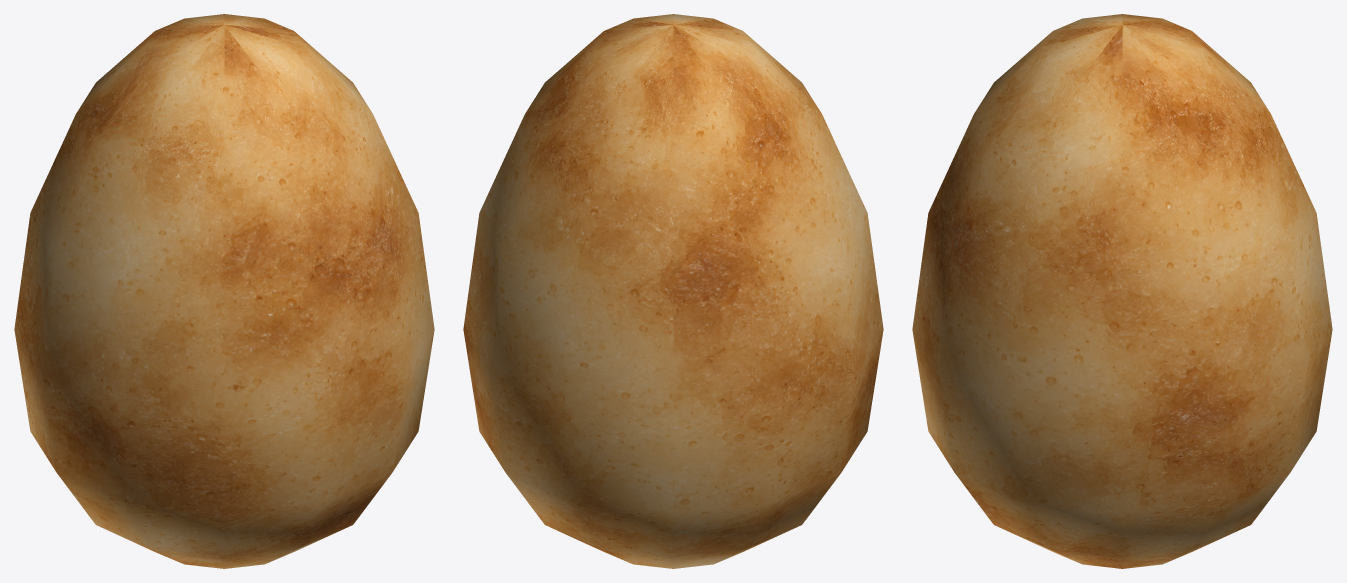
Rendered from Egg.fbx.
3 renders of one model, left to right at view 1: azimuth 30°, elevation 25°; view 2: azimuth 150°, elevation 25°; view 3: azimuth 270°, elevation 25°, orthographic.
Visible parts, largest first — view 1: pSphere1; view 2: pSphere1; view 3: pSphere1.
Boxes of the visible parts, bbox=[...] form: pSphere1: bbox=[14, 14, 434, 568]; pSphere1: bbox=[463, 14, 883, 568]; pSphere1: bbox=[912, 14, 1332, 568].
Bounding box in the file's own units: 2 × 2.76 × 2.
Materials: 1 (1 with a texture image).
